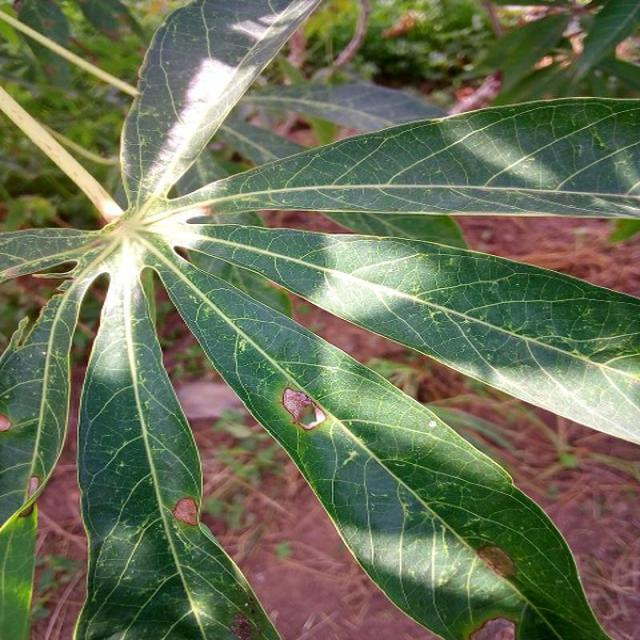cassava leaf: (2, 0, 638, 638), (145, 239, 613, 639)
